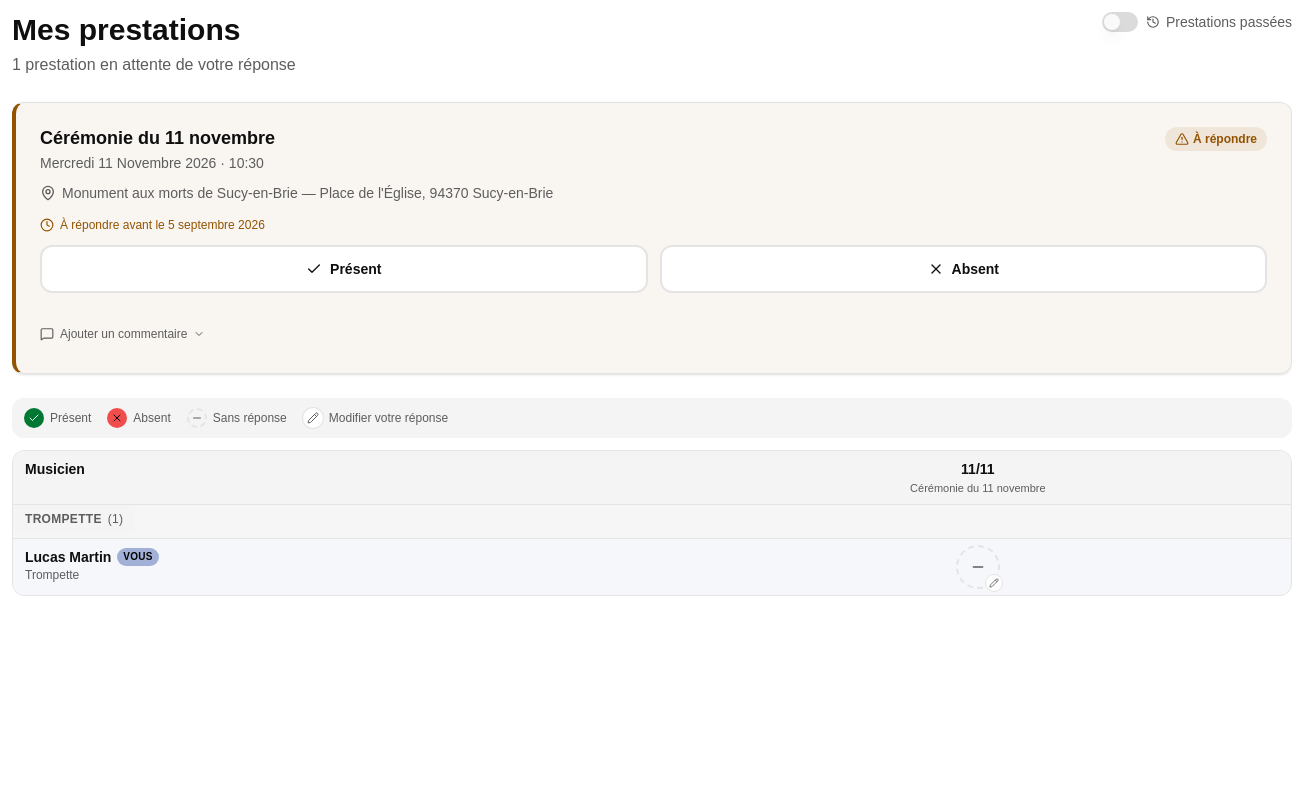
disparition des cartes après une réponse › conserve la carte si l'enregistrement échoue
Click the button "Présent" at (344, 269), box [40, 245, 648, 293]
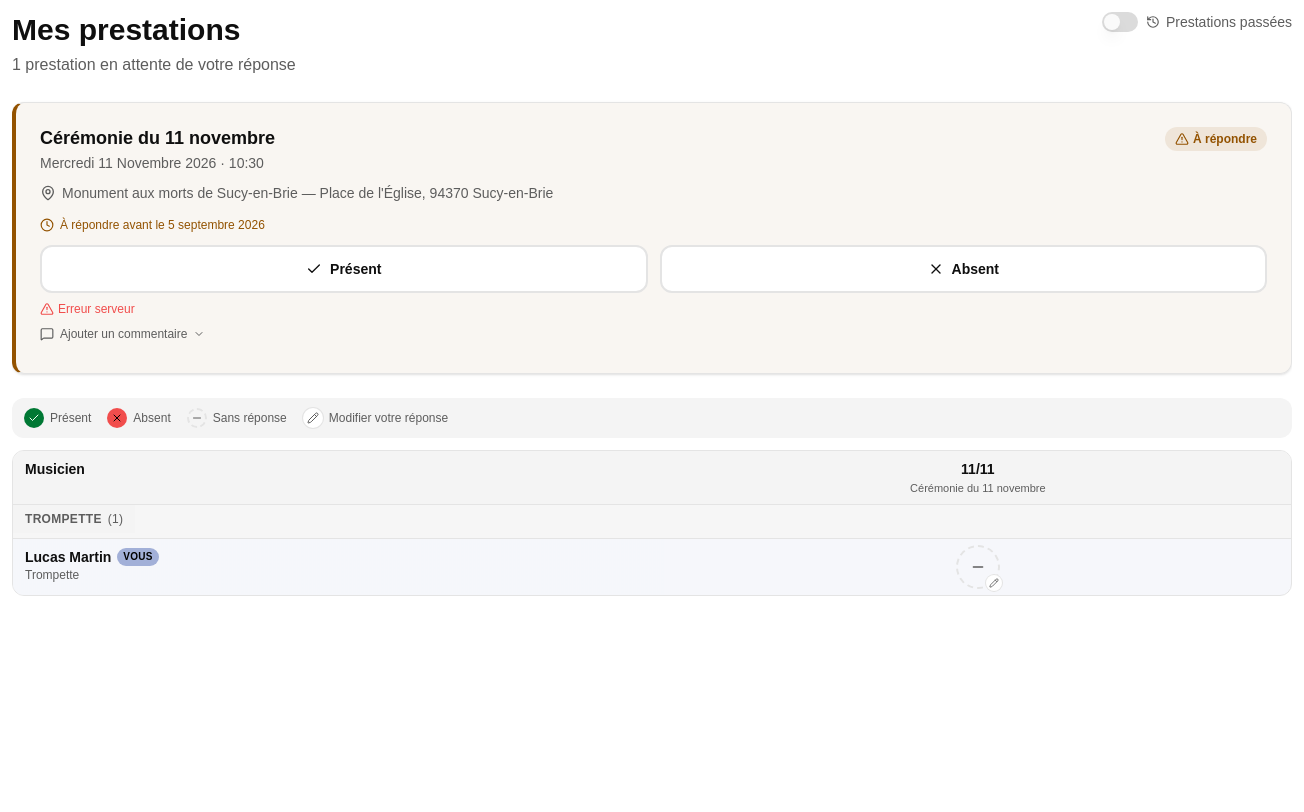
Expected: the heading "Cérémonie du 11 novembre" is shown, [40, 127, 275, 149]
Now the text "Erreur serveur" is shown, box [40, 302, 135, 316]
